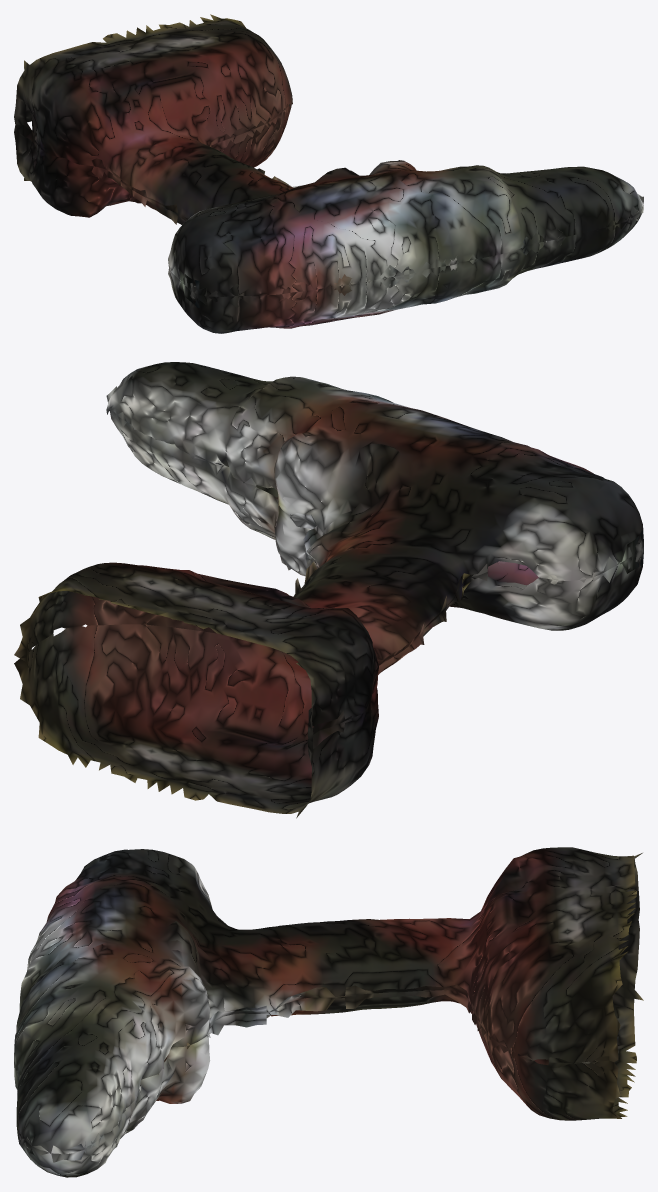
The model's file is skil.obj.
3 views of the same model, one above another, from view 1: azimuth 30°, elevation 25°; view 2: azimuth 150°, elevation 25°; view 3: azimuth 270°, elevation 25° (orthographic). The views are drawn at different scales.
Size of the model in its own units: 0.2394 by 0.0734 by 0.2466.
